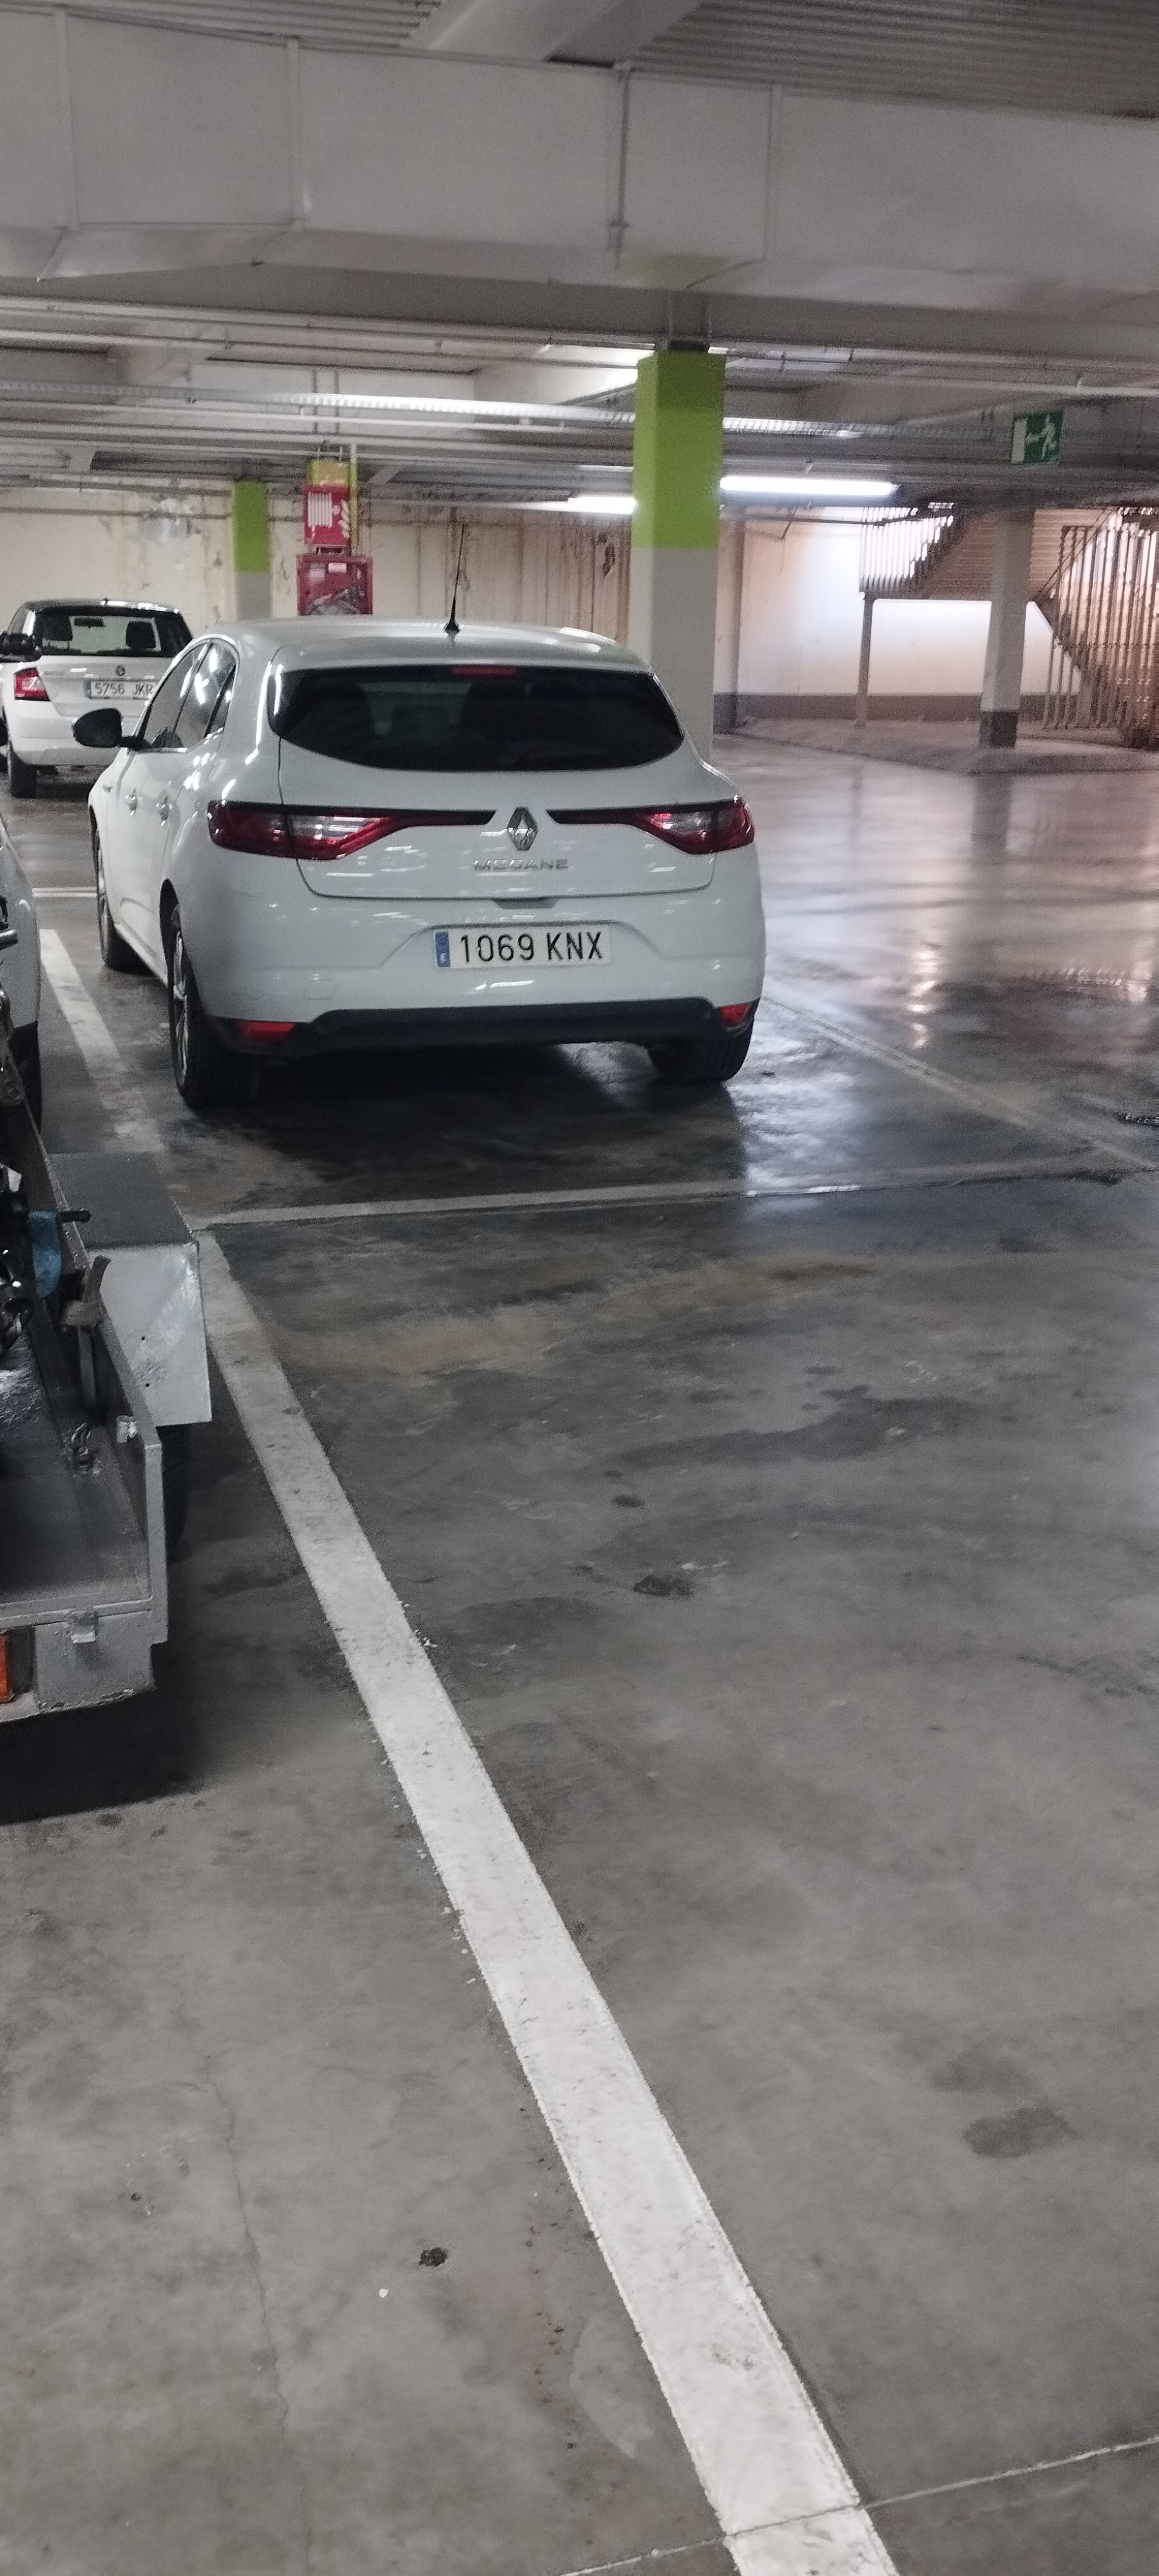Car: (91, 626, 771, 1082)
Plate: (433, 931, 602, 964)
